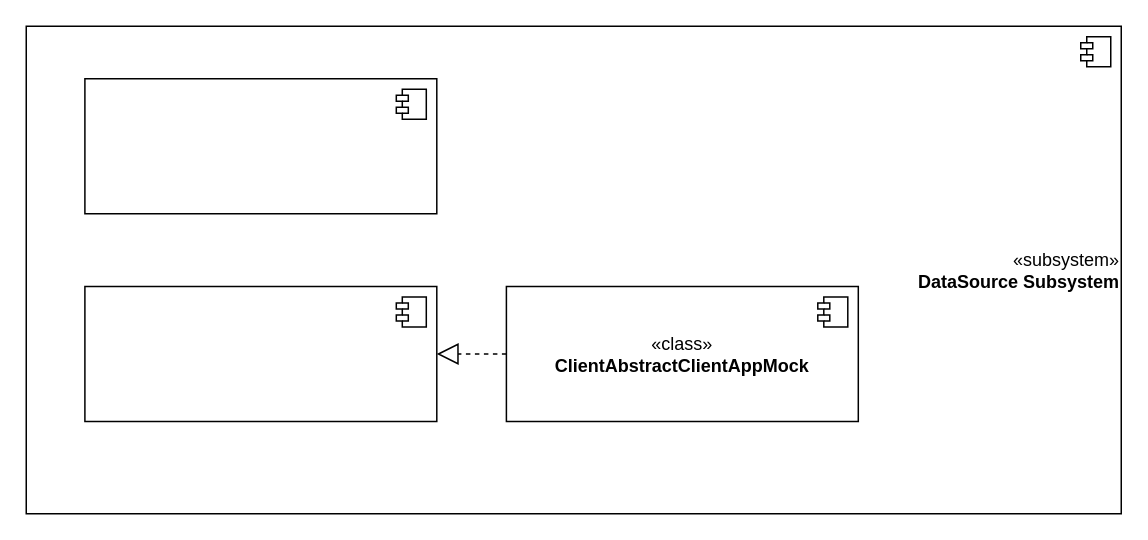
The diagram is 1148 pixels wide and 540 high, and some of its shapes have lost their labels. Each missing label, with the centre of its shape:
«application» AndroidApp: (260,145)
«interface» AbstractClientApp: (260,353)
